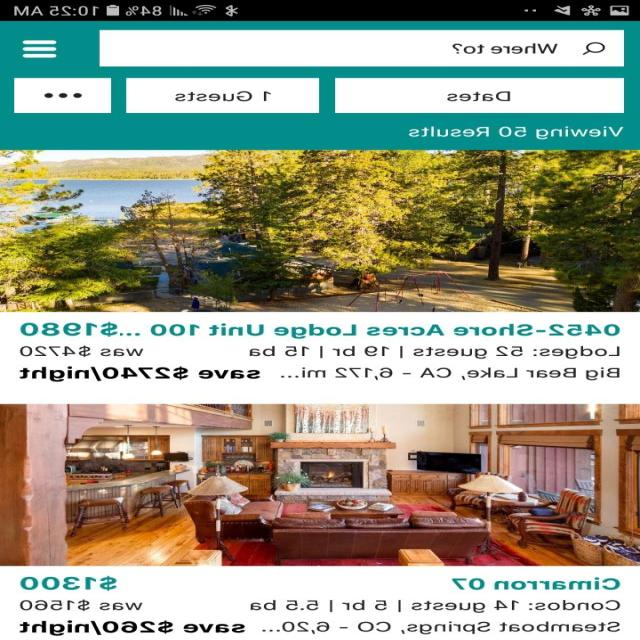EditText: (100, 30, 625, 67)
Icon: (23, 39, 59, 58), (582, 42, 606, 55)
Image: (1, 404, 640, 566), (2, 150, 640, 312)
Text: (20, 321, 620, 339), (19, 619, 620, 636), (19, 365, 620, 382), (250, 599, 622, 612), (250, 346, 620, 359), (409, 126, 624, 139), (452, 576, 620, 590), (21, 574, 118, 591), (20, 599, 144, 611), (20, 345, 144, 357), (452, 43, 558, 54)
TextButton: (335, 78, 624, 113), (127, 78, 320, 113), (15, 78, 113, 113)
